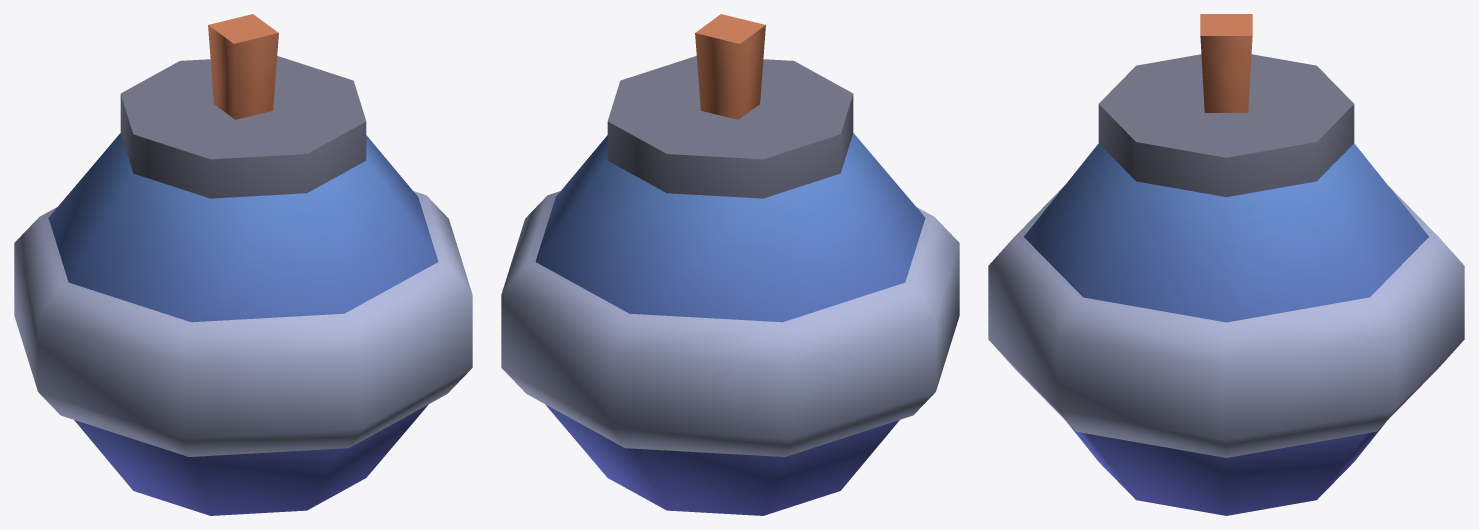
The model's file is bomb.glb.
The picture shows the model from 3 angles, left to right: view 1: azimuth 30°, elevation 25°; view 2: azimuth 150°, elevation 25°; view 3: azimuth 270°, elevation 25°; orthographic projection.
Visible parts, largest first — view 1: bomb; view 2: bomb; view 3: bomb.
Part boxes in pixels (x1,y1,x2,y2): bomb: (14,14,472,515); bomb: (501,14,959,515); bomb: (988,14,1464,515).
Bounding box in the file's own units: 0.4932 × 0.542 × 0.4932.
Materials: 1 (1 with a texture image).
